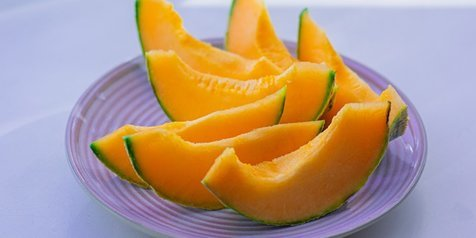Melon: (214, 106, 397, 218), (141, 113, 321, 201), (144, 55, 339, 114)
